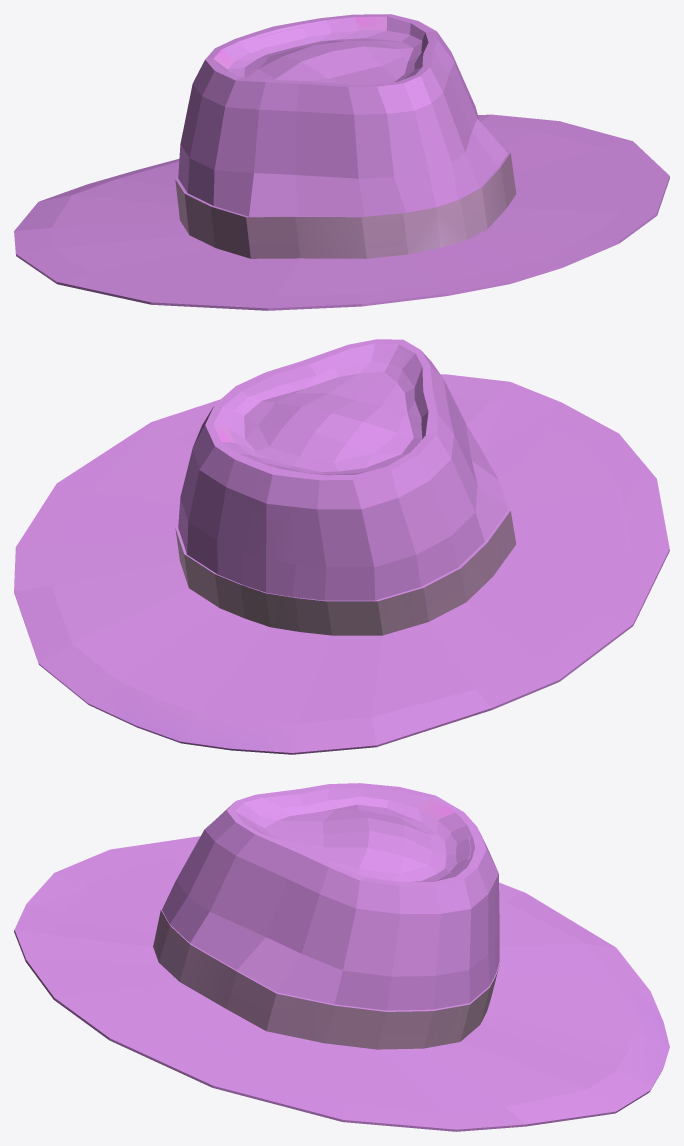
The model's file is whitefedora.fbx.
3 renders of one model, top to bottom at view 1: azimuth 30°, elevation 25°; view 2: azimuth 150°, elevation 25°; view 3: azimuth 270°, elevation 25°, orthographic.
Parts seen in each view (by area): view 1: whitefedora; view 2: whitefedora; view 3: whitefedora.
Boxes of the visible parts, <box> form: whitefedora: <box>14,14,669,310</box>; whitefedora: <box>14,339,669,754</box>; whitefedora: <box>14,783,669,1131</box>.
Size of the model in its own units: 49.64 by 19.8 by 49.26.
